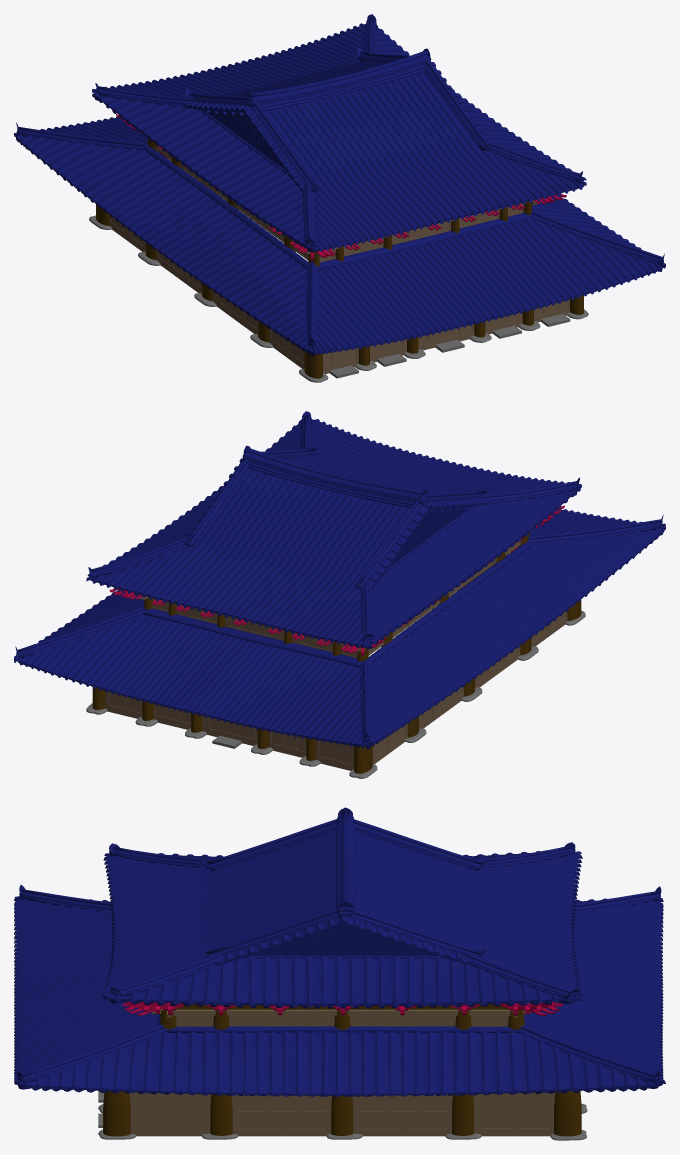
Rendered from length_house.fbx.
3 renders of one model, top to bottom at view 1: azimuth 30°, elevation 25°; view 2: azimuth 150°, elevation 25°; view 3: azimuth 270°, elevation 25°, orthographic. The views are drawn at different scales.
Parts seen in each view (by area): view 1: SM_Geumsan_Mi_Roof_A, SM_Geumsan_Mi_Roof_C, SM_Geumsan_Mi_Wall_A, SM_Geumsan_Mi_Wall_G__1_, SM_Geumsan_Mi_Wall_C, SM_Geumsan_Mi_Wall_F, SM_Geumsan_Mi_Wall_G; view 2: SM_Geumsan_Mi_Roof_A, SM_Geumsan_Mi_Roof_C, SM_Geumsan_Mi_Wall_H, SM_Geumsan_Mi_Wall_F__3_, SM_Geumsan_Mi_Wall_I__1_, SM_Geumsan_Mi_Wall_F__2_, SM_Geumsan_Mi_Wall_I, SM_Geumsan_Mi_Wall_G, SM_Geumsan_Mi_Wall_F__1_, SM_Geumsan_Mi_Wall_G__1_, SM_Geumsan_Mi_Wall_J__1_; view 3: SM_Geumsan_Mi_Roof_A, SM_Geumsan_Mi_Roof_C, SM_Geumsan_Mi_Wall_E, SM_Geumsan_Mi_Wall_E__1_, SM_Geumsan_Mi_Wall_D__1_, SM_Geumsan_Mi_Wall_D, SM_Geumsan_Mi_Bang_B, SM_Geumsan_Mi_Wall_L__2_, SM_Geumsan_Mi_Wall_L__3_, SM_Geumsan_Mi_Pillar_A__2_, SM_Geumsan_Mi_Pillar_A__1_, SM_Geumsan_Mi_Pillar_B__4_ (+5 smaller).
Boxes of the visible parts, x1,y1,x2,y2 form: SM_Geumsan_Mi_Roof_A: (92, 14, 586, 252); SM_Geumsan_Mi_Roof_C: (14, 116, 665, 356); SM_Geumsan_Mi_Wall_A: (418, 324, 474, 350); SM_Geumsan_Mi_Wall_G__1_: (212, 290, 257, 333); SM_Geumsan_Mi_Wall_C: (323, 348, 358, 373); SM_Geumsan_Mi_Wall_F: (269, 329, 304, 368); SM_Geumsan_Mi_Wall_G: (156, 250, 201, 292); SM_Geumsan_Mi_Roof_A: (86, 411, 581, 649); SM_Geumsan_Mi_Roof_C: (14, 509, 665, 749); SM_Geumsan_Mi_Wall_H: (202, 715, 257, 745); SM_Geumsan_Mi_Wall_F__3_: (316, 740, 353, 770); SM_Geumsan_Mi_Wall_I__1_: (269, 731, 306, 757); SM_Geumsan_Mi_Wall_F__2_: (105, 691, 142, 718); SM_Geumsan_Mi_Wall_I: (153, 704, 190, 729); SM_Geumsan_Mi_Wall_G: (419, 687, 463, 729); SM_Geumsan_Mi_Wall_F__1_: (372, 723, 407, 764); SM_Geumsan_Mi_Wall_G__1_: (475, 646, 520, 688); SM_Geumsan_Mi_Wall_J__1_: (225, 617, 284, 640); SM_Geumsan_Mi_Roof_A: (101, 807, 583, 1008); SM_Geumsan_Mi_Roof_C: (14, 885, 665, 1096); SM_Geumsan_Mi_Wall_E: (231, 1094, 331, 1136); SM_Geumsan_Mi_Wall_E__1_: (352, 1094, 452, 1136); SM_Geumsan_Mi_Wall_D__1_: (473, 1092, 555, 1136); SM_Geumsan_Mi_Wall_D: (129, 1092, 211, 1136); SM_Geumsan_Mi_Bang_B: (152, 1009, 530, 1017); SM_Geumsan_Mi_Wall_L__2_: (228, 1015, 334, 1026); SM_Geumsan_Mi_Wall_L__3_: (350, 1015, 455, 1026); SM_Geumsan_Mi_Pillar_A__2_: (554, 1091, 581, 1136); SM_Geumsan_Mi_Pillar_A__1_: (103, 1091, 130, 1136); SM_Geumsan_Mi_Pillar_B__4_: (210, 1094, 232, 1135).
Bounding box in the file's own units: 395 × 208 × 578.
